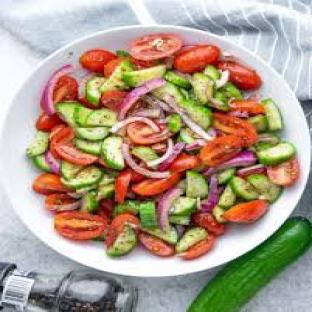Cucumber: (188, 218, 311, 311), (100, 60, 135, 93), (106, 225, 136, 257), (179, 100, 212, 129), (123, 65, 166, 87), (247, 175, 282, 202), (258, 142, 296, 165), (61, 166, 102, 187), (101, 136, 124, 170), (176, 228, 207, 253), (230, 177, 259, 201), (191, 74, 214, 104), (55, 102, 83, 126), (261, 99, 282, 130), (142, 227, 178, 244), (153, 83, 183, 103), (27, 131, 48, 157), (187, 171, 207, 198), (86, 109, 117, 126), (170, 197, 197, 216), (86, 78, 105, 105), (140, 202, 158, 228), (75, 127, 110, 140), (165, 71, 190, 89), (61, 161, 83, 180), (80, 191, 99, 213), (218, 184, 235, 208), (75, 140, 102, 155), (131, 147, 158, 162), (255, 134, 280, 150), (208, 91, 229, 110), (73, 107, 93, 126), (114, 201, 141, 215), (219, 83, 242, 99), (249, 115, 268, 133), (32, 155, 51, 172), (97, 183, 114, 200), (167, 115, 183, 133), (204, 65, 220, 82), (218, 168, 235, 183), (179, 129, 195, 144), (77, 183, 97, 195), (170, 216, 190, 226), (213, 206, 225, 222), (255, 142, 276, 151), (92, 233, 107, 242), (179, 88, 190, 99), (117, 50, 130, 57)
Tomato: (213, 112, 257, 146), (55, 212, 107, 239), (131, 34, 183, 60), (199, 136, 242, 166), (174, 45, 220, 73), (218, 61, 262, 89), (132, 173, 181, 196), (106, 214, 139, 247), (222, 199, 268, 222), (128, 122, 172, 145), (104, 58, 156, 77), (55, 142, 97, 165), (267, 158, 299, 186), (179, 235, 215, 259), (139, 233, 175, 257), (33, 173, 71, 195), (80, 49, 116, 72), (50, 126, 74, 159), (193, 212, 225, 234), (53, 76, 79, 103), (100, 90, 127, 111), (168, 155, 201, 172), (46, 193, 77, 211), (230, 100, 265, 115), (36, 112, 63, 131), (115, 171, 131, 203), (104, 58, 125, 77), (236, 167, 266, 178), (97, 199, 113, 218), (129, 58, 156, 69), (126, 168, 145, 182), (78, 97, 100, 109), (50, 125, 66, 140), (151, 142, 167, 154), (98, 158, 110, 169)
